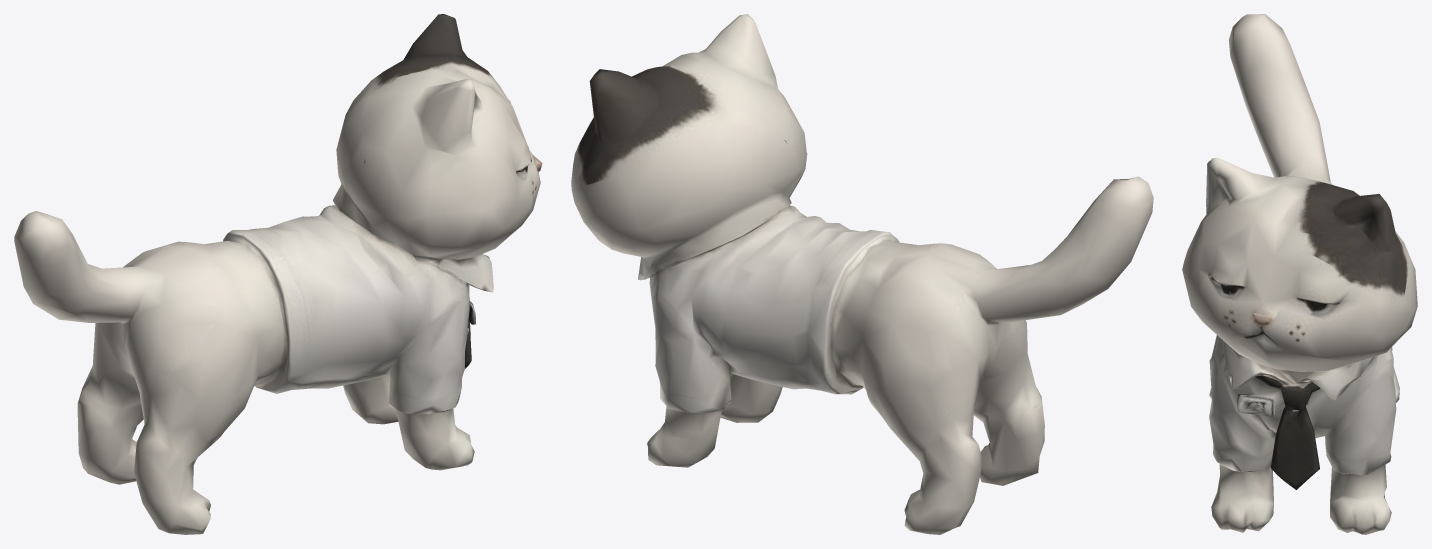
The model's file is ket-3-lo.glb.
The picture shows the model from 3 angles, left to right: view 1: azimuth 30°, elevation 25°; view 2: azimuth 150°, elevation 25°; view 3: azimuth 270°, elevation 25°; orthographic projection. The views are drawn at different scales.
Parts seen in each view (by area): view 1: tripo_node_1ff21619-3442-40ed-8944-c1187ec5f112; view 2: tripo_node_1ff21619-3442-40ed-8944-c1187ec5f112; view 3: tripo_node_1ff21619-3442-40ed-8944-c1187ec5f112.
Part boxes in pixels (x1=…): tripo_node_1ff21619-3442-40ed-8944-c1187ec5f112: x1=14, y1=14, x2=542, y2=534; tripo_node_1ff21619-3442-40ed-8944-c1187ec5f112: x1=571, y1=14, x2=1153, y2=534; tripo_node_1ff21619-3442-40ed-8944-c1187ec5f112: x1=1182, y1=14, x2=1417, y2=534.
Bounding box in the file's own units: 1.42 × 1 × 0.5736.
1 material, 1 textured.
